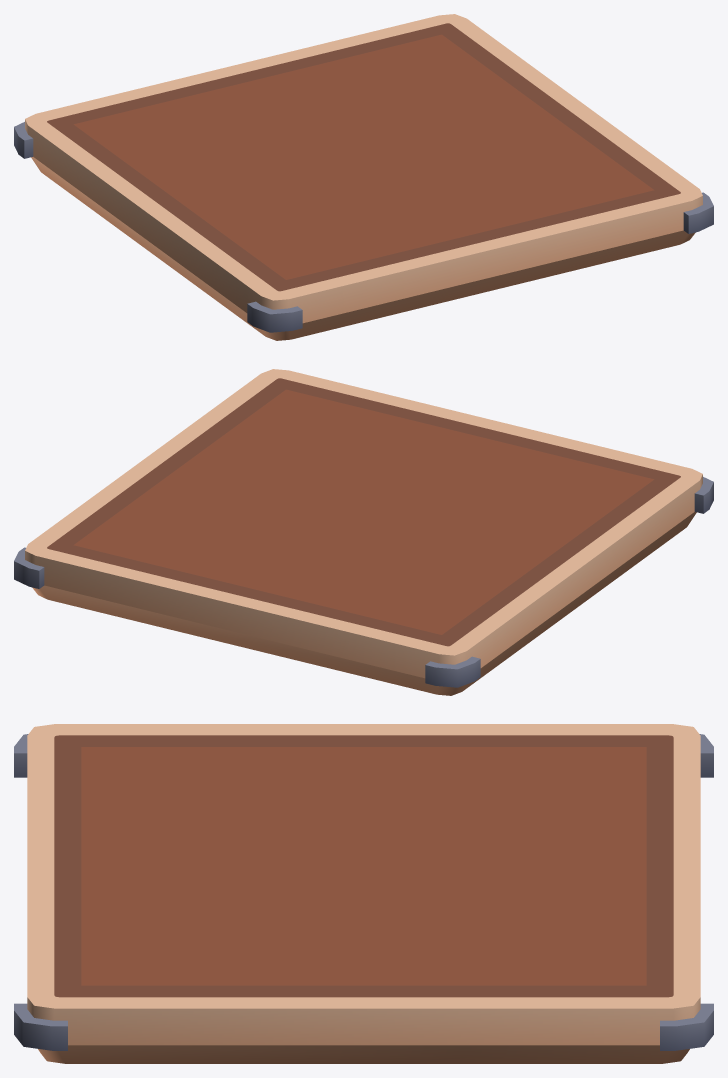
File: platform-large-grass.glb
The picture shows the model from 3 angles, top to bottom: view 1: azimuth 30°, elevation 25°; view 2: azimuth 150°, elevation 25°; view 3: azimuth 270°, elevation 25°; orthographic projection. The views are drawn at different scales.
Visible parts, largest first — view 1: platform-large-grass; view 2: platform-large-grass; view 3: platform-large-grass.
Boxes of the visible parts, bbox=[...] form: platform-large-grass: bbox=[14, 14, 713, 340]; platform-large-grass: bbox=[14, 369, 713, 695]; platform-large-grass: bbox=[14, 724, 713, 1063].
Bounding box in the file's own units: 5.2 × 0.5 × 5.2.
1 material, 1 textured.
